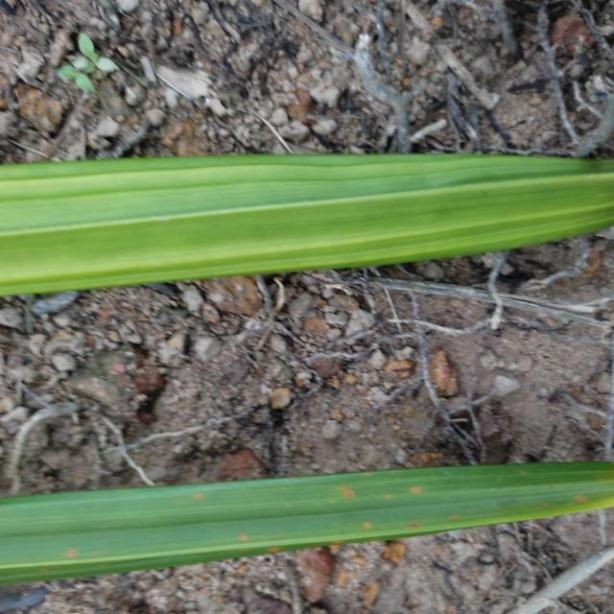nitrogen: (0, 152, 614, 300), (0, 459, 614, 592)
